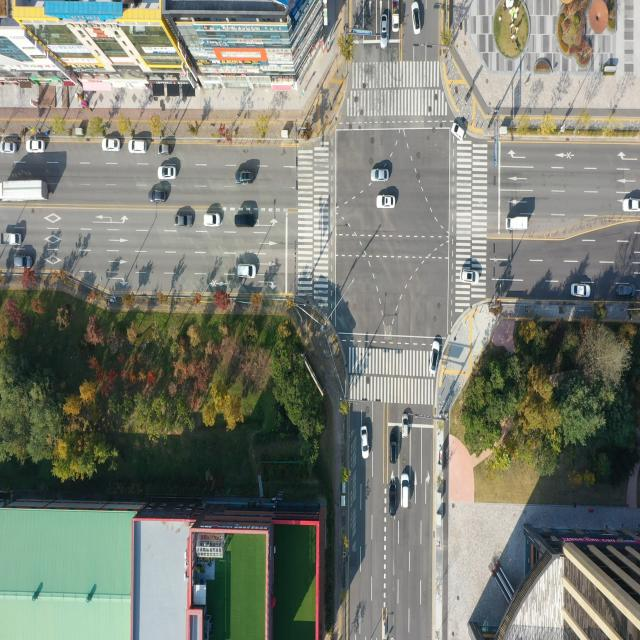car: (429, 340, 440, 376), (400, 474, 410, 510), (237, 263, 258, 280), (389, 477, 397, 515), (236, 213, 256, 228), (570, 283, 590, 298), (130, 140, 149, 155), (102, 137, 121, 152), (158, 166, 178, 180), (411, 4, 421, 32), (389, 429, 397, 463), (175, 213, 193, 228), (204, 212, 222, 227), (460, 270, 478, 285), (378, 196, 397, 210), (236, 171, 255, 185), (452, 123, 466, 142), (379, 14, 387, 47), (624, 198, 640, 214), (28, 139, 46, 153), (152, 188, 169, 202), (372, 170, 390, 183), (361, 426, 368, 459), (0, 141, 17, 154), (618, 284, 634, 296), (159, 143, 173, 156), (401, 414, 407, 438)
medium_truck: (0, 178, 49, 204)
small_truck: (506, 215, 530, 231), (391, 0, 399, 32), (3, 234, 22, 247)
